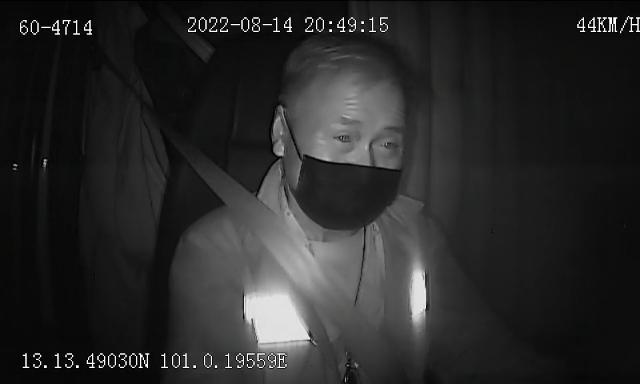SafeDriving: (370, 128, 408, 156), (324, 124, 363, 148)
Seatbelt: (184, 149, 418, 384)
